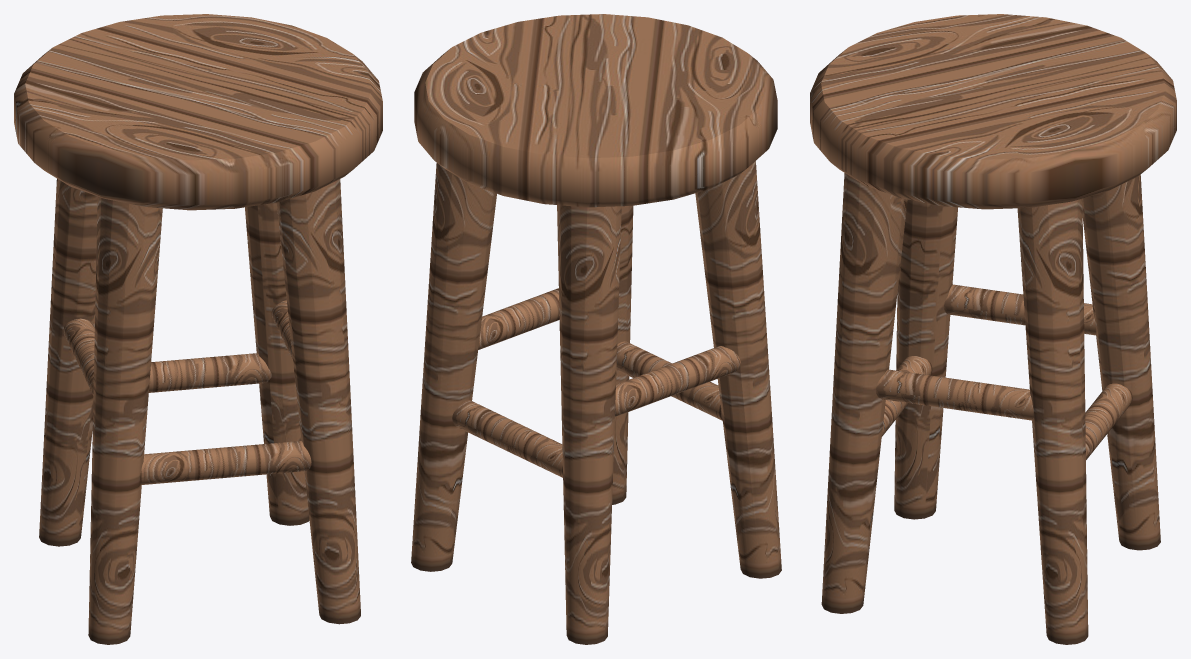
Rendered from Stool.fbx.
3 renders of one model, left to right at view 1: azimuth 30°, elevation 25°; view 2: azimuth 150°, elevation 25°; view 3: azimuth 270°, elevation 25°, orthographic.
Parts seen in each view (by area): view 1: Seat; view 2: Seat; view 3: Seat.
Part boxes in pixels (bbox=[...]): Seat: bbox=[14, 14, 382, 644]; Seat: bbox=[411, 14, 781, 644]; Seat: bbox=[810, 14, 1176, 644].
Bounding box in the file's own units: 19.83 × 19.83 × 29.
1 material, 1 textured.
